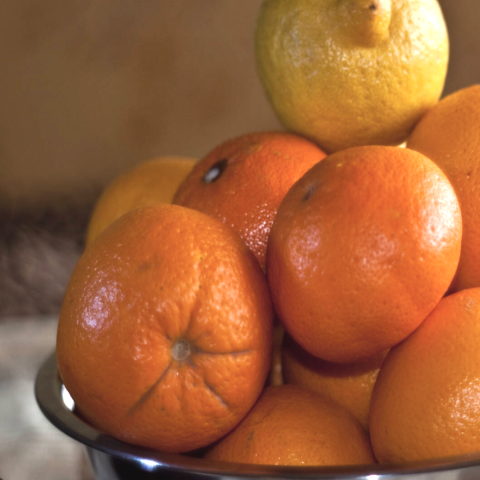orange: (45, 197, 278, 471), (247, 102, 467, 373)
